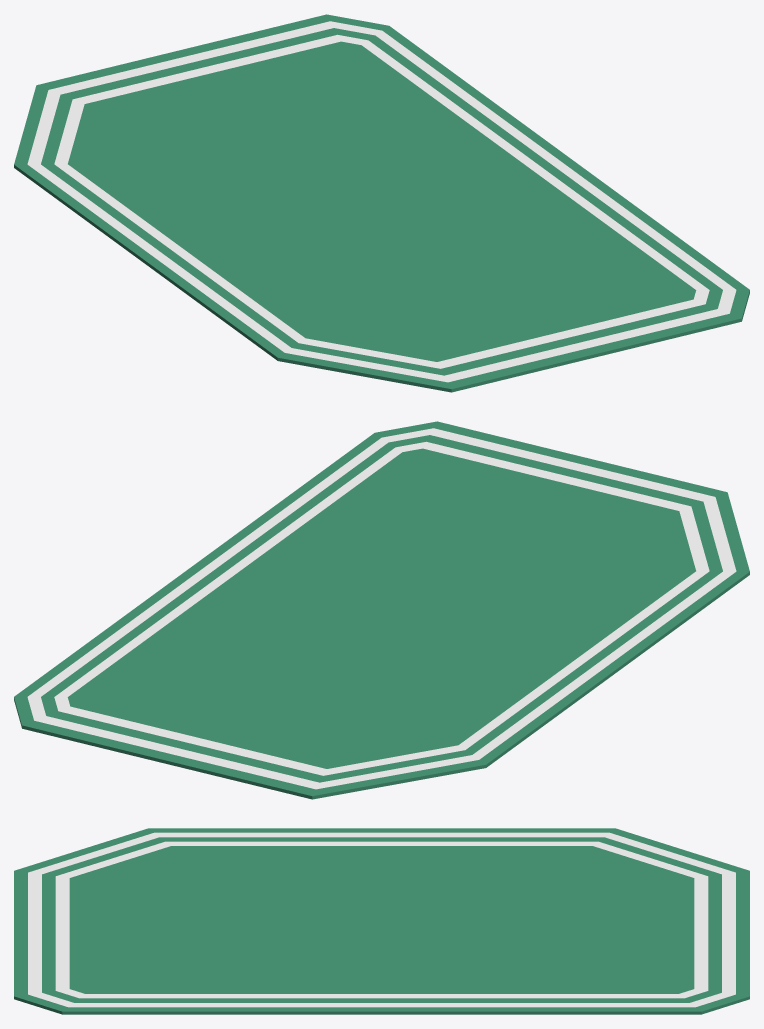
The model's file is Carpet_19.fbx.
The picture shows the model from 3 angles, top to bottom: view 1: azimuth 30°, elevation 25°; view 2: azimuth 150°, elevation 25°; view 3: azimuth 270°, elevation 25°; orthographic projection. The views are drawn at different scales.
Visible parts, largest first — view 1: Carpet_19; view 2: Carpet_19; view 3: Carpet_19.
Part boxes in pixels (x1,y1,x2,y2): Carpet_19: (14, 14, 749, 392); Carpet_19: (14, 421, 749, 799); Carpet_19: (14, 828, 749, 1014).
Bounding box in the file's own units: 0.8651 × 0.0065 × 1.47.
